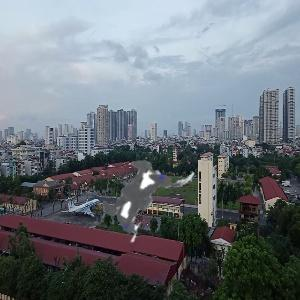drone: (47, 112, 221, 286)
